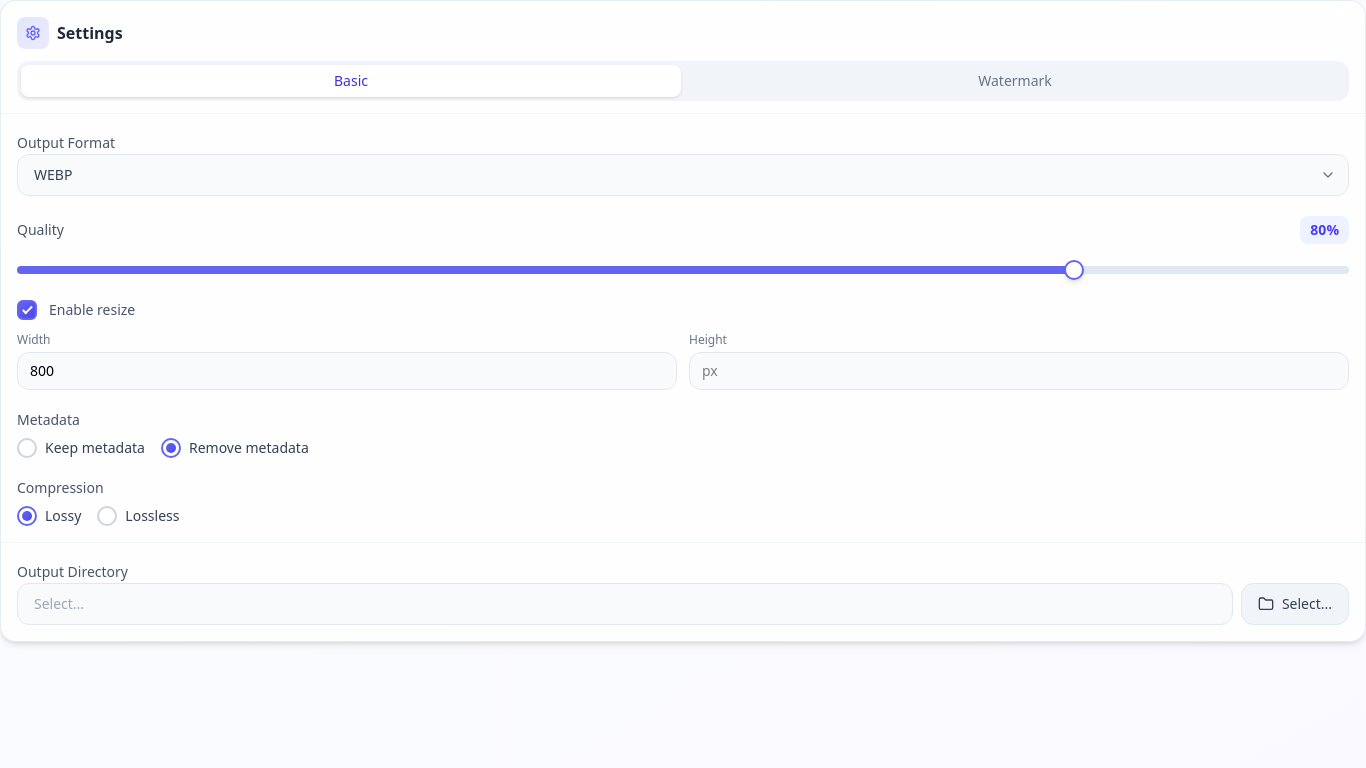
Test: SettingsPanel › リサイズ › 0 を入れると store には 0 が入るが入力欄は空に見える
Replace the text in the number field labelled "Width" with "0" at (347, 371), box [17,352,677,390]
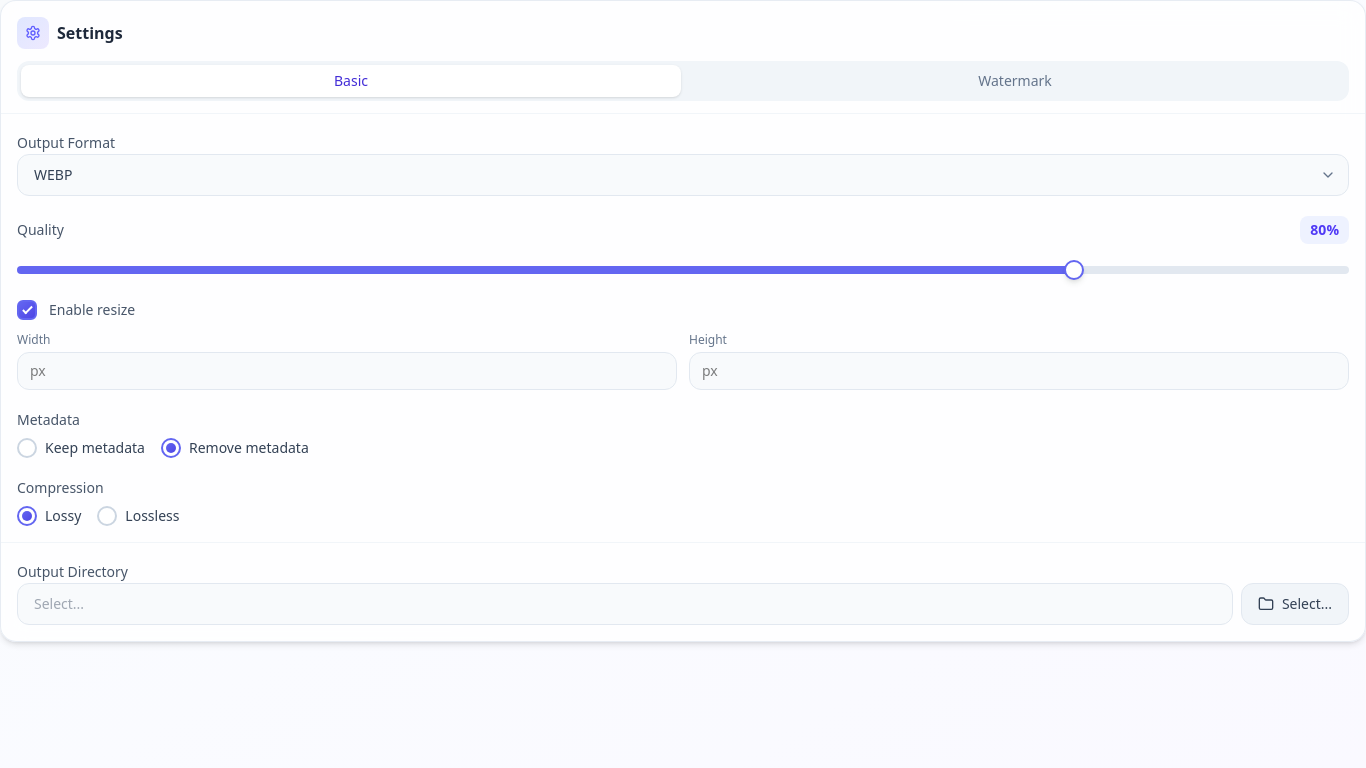
Expected: the number field labelled "Width" is not empty, [17,352,677,390]
